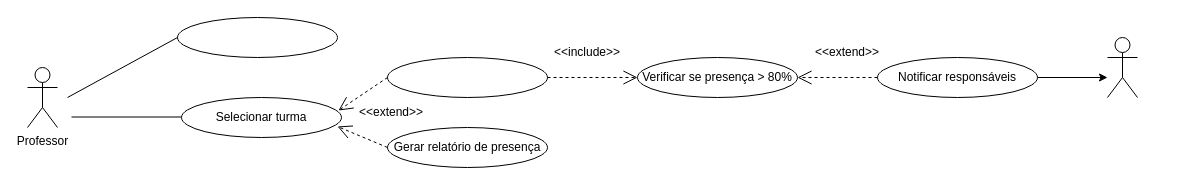
Some shapes in this 1177 by 185 pixel diagram are drawn without their labels. The shapes that lost their labels are listed below. From the top down, each one's centre as x and y in pixels, then its label:
the point at 257,37: Efetuar Login
the point at 467,77: Fazer chamada
the point at 1122,67: Responsáveis
